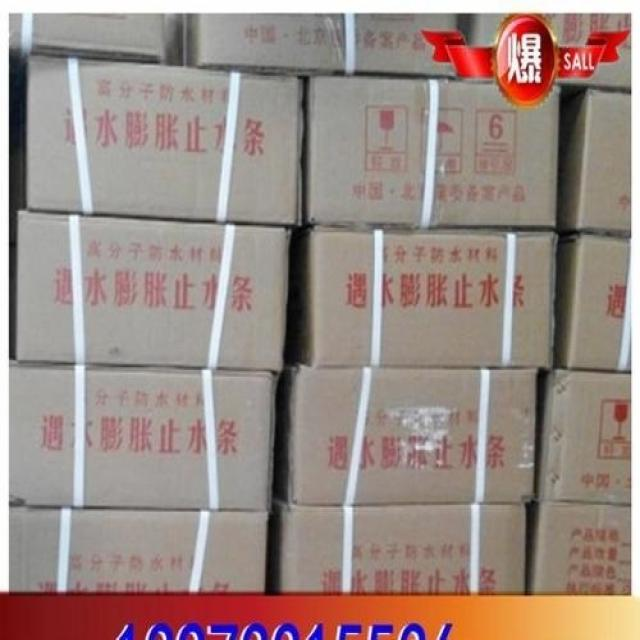box: (26, 55, 305, 225), (14, 210, 291, 373), (10, 364, 278, 513), (307, 76, 561, 228), (289, 363, 539, 505), (307, 228, 557, 369), (278, 504, 526, 594), (10, 508, 268, 592), (193, 14, 457, 76), (538, 370, 630, 502), (553, 231, 630, 371), (561, 89, 630, 235), (530, 501, 630, 595), (9, 14, 174, 63)
